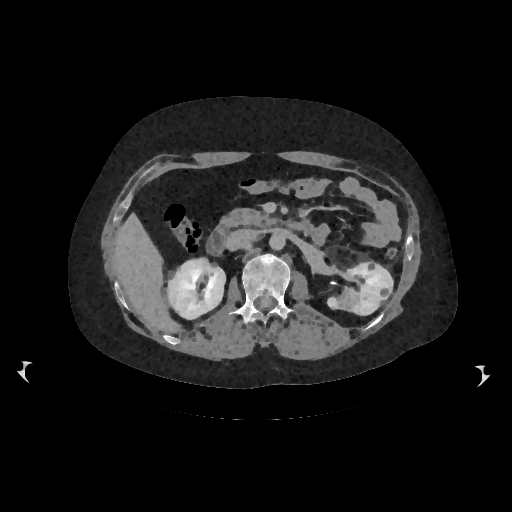Lesion: (334, 284, 362, 312)
